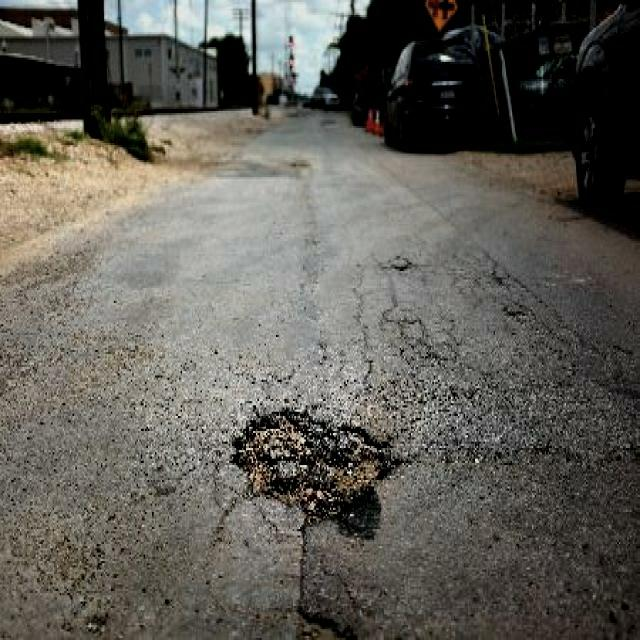Pothole: (230, 407, 397, 518), (294, 602, 357, 638)
